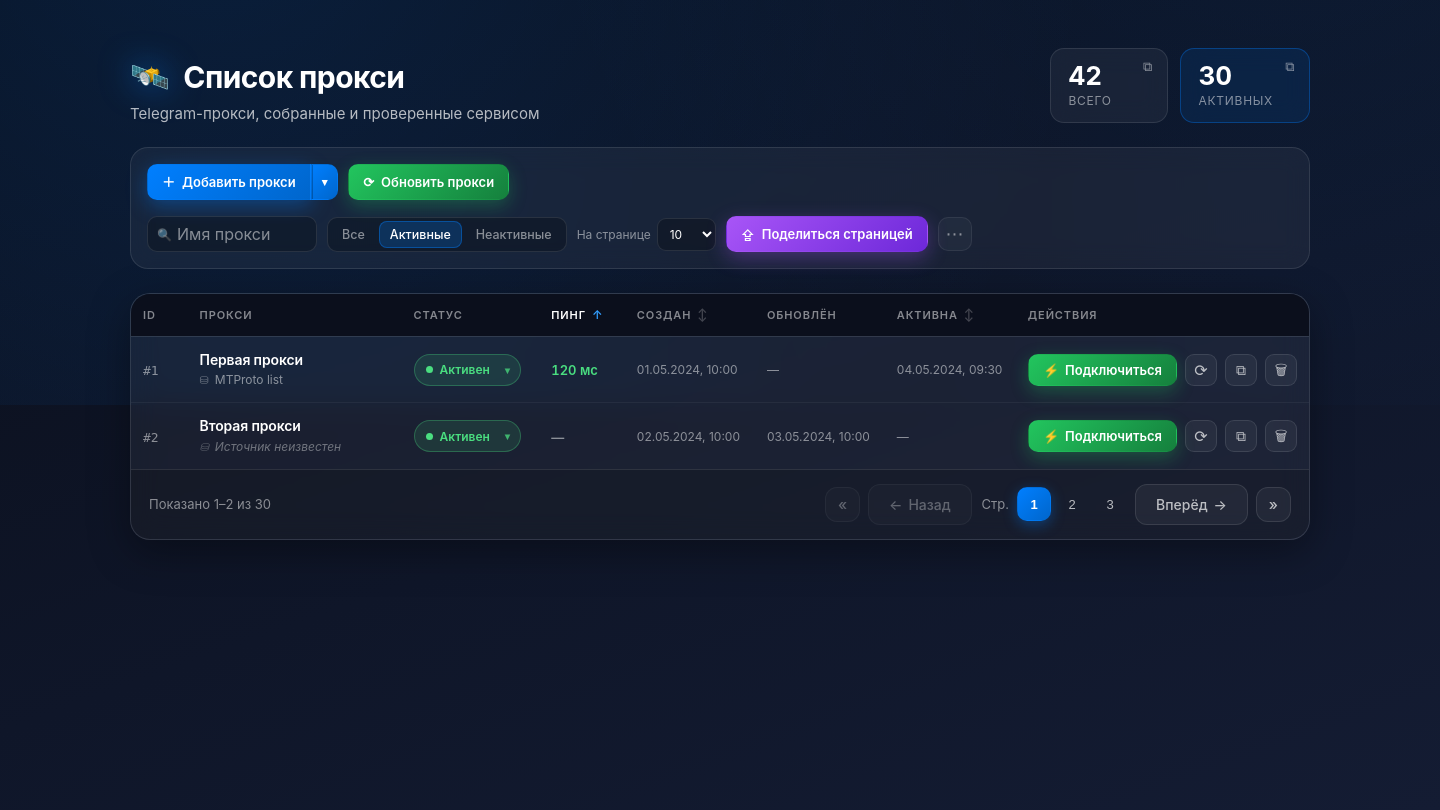
Test: добавление прокси › успешное добавление показывает тост и перезагружает список (ответ 201 приходит без тела)
Expected: the text "Первая прокси" is shown, x1=200 y1=351 x2=303 y2=368
What coordinates should you click on to do the following:
click the button titled "Добавить прокси"
I would click on:
 (229, 182)
Its box is x1=147 y1=164 x2=311 y2=200.
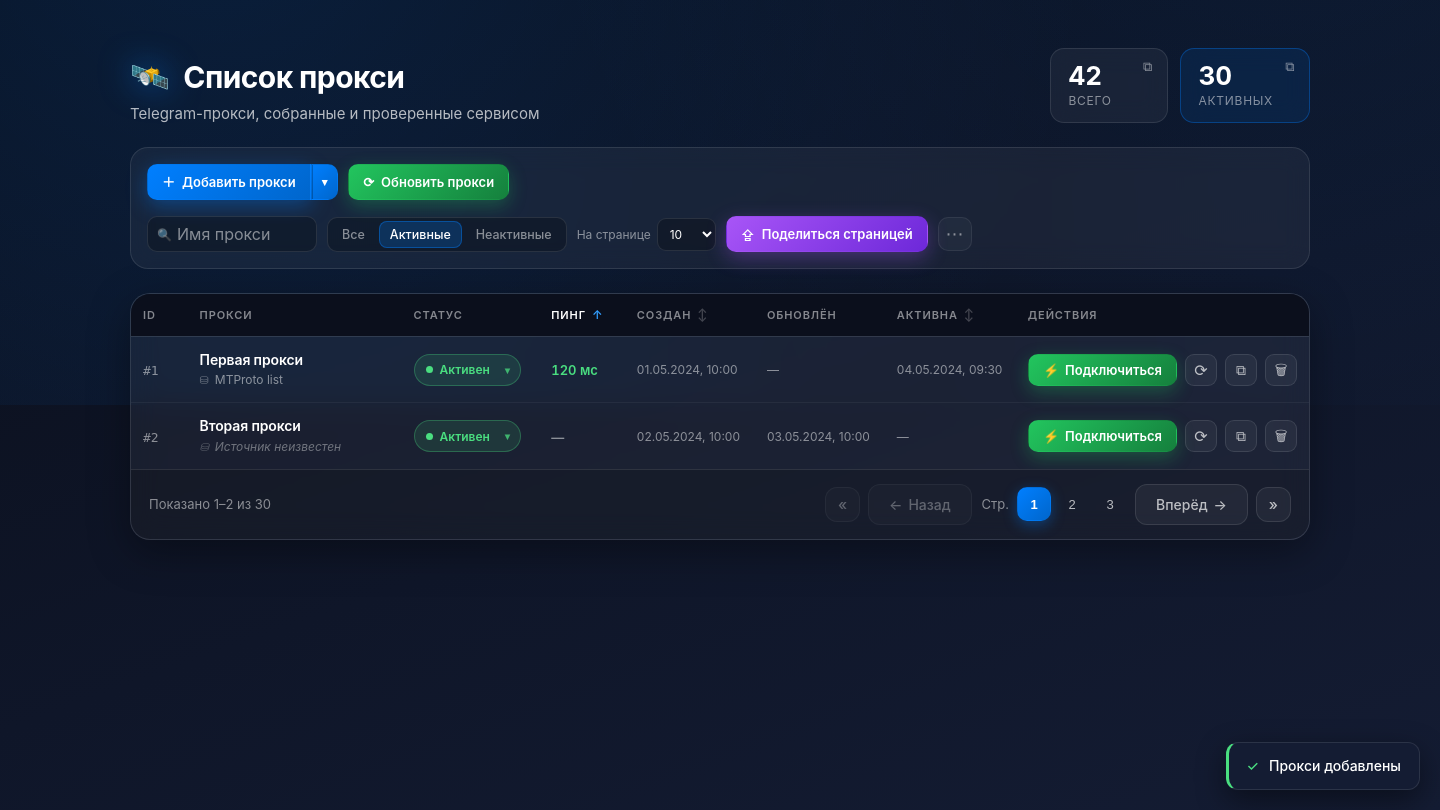
Result: the text "Прокси добавлены" is shown at x1=1269 y1=756 x2=1401 y2=776
